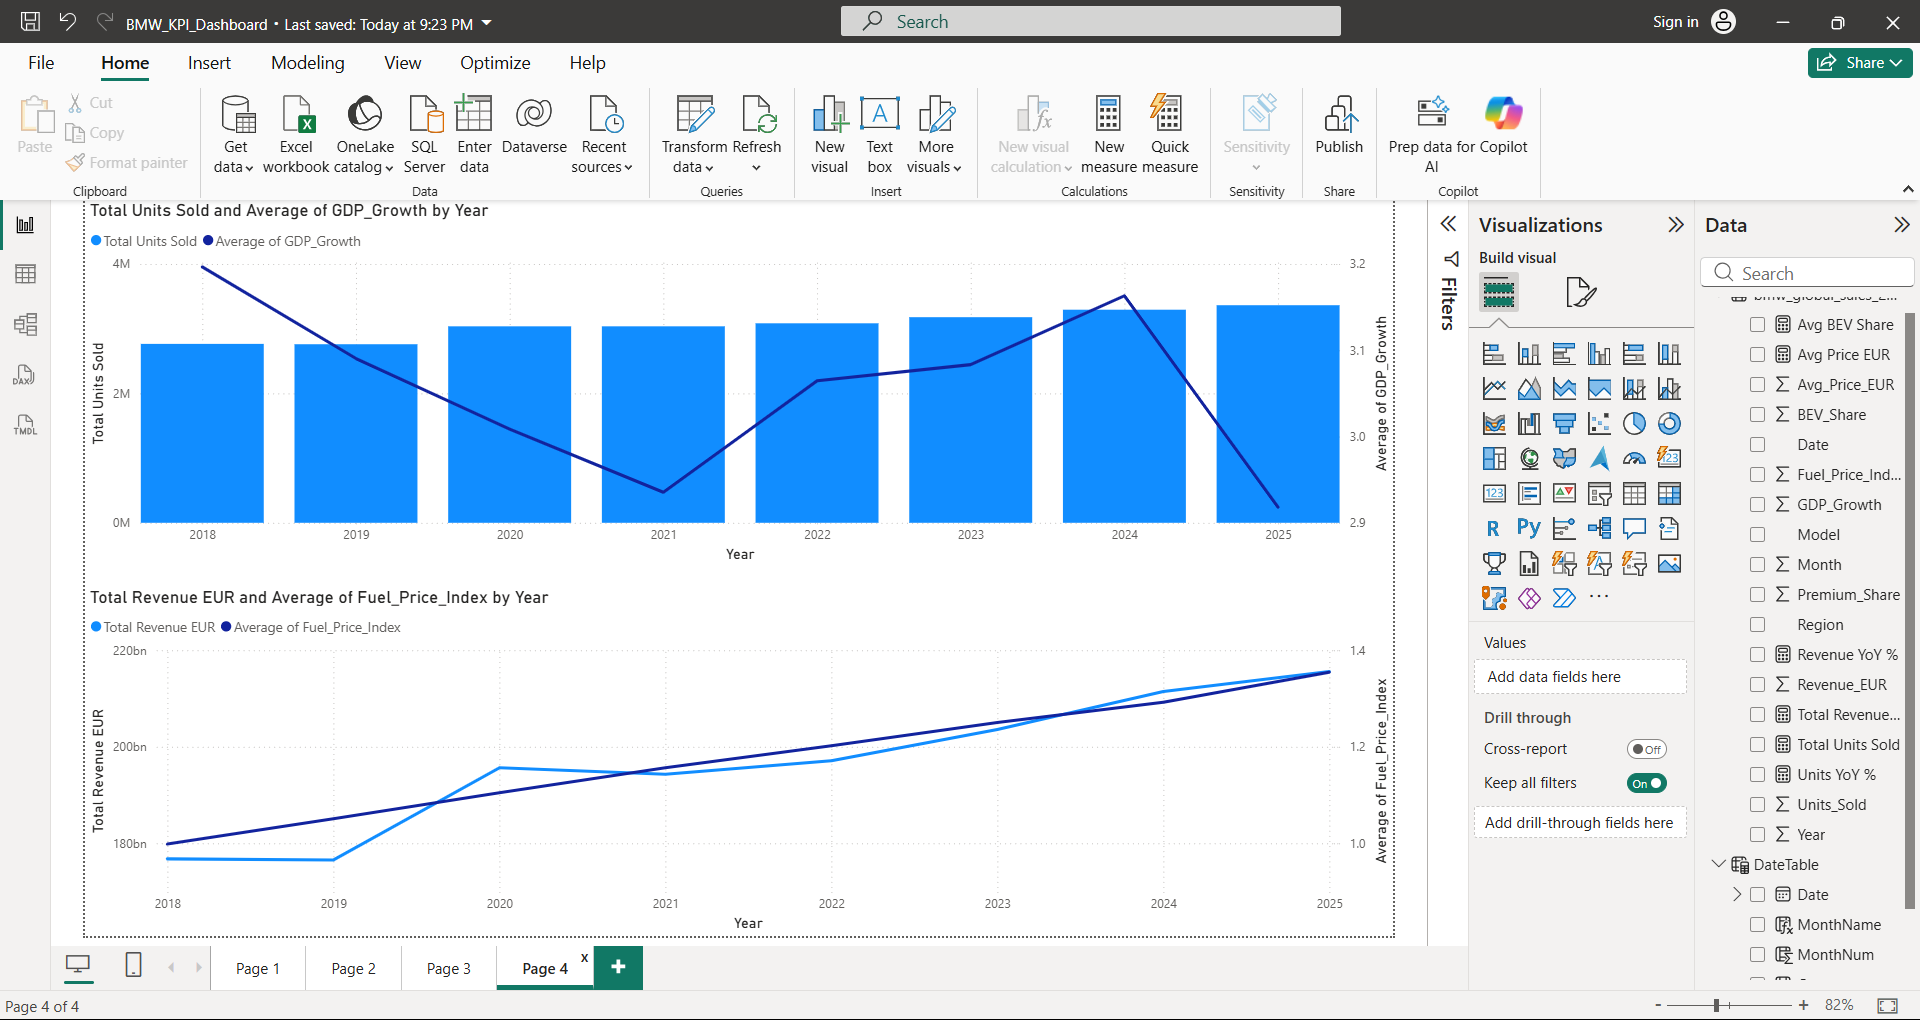

The dashboard page shown, as its layout file describes it:
{"tool":"powerbi","page":{"name":"Page 4","canvas":[1280,720],"ordinal":3},"visuals":[{"type":"lineStackedColumnComboChart","fields":{"Category":["DateTable.Year"],"Y2":["Avg(bmw_global_sales_2018_2025.GDP_Growth)"],"Y":["bmw_global_sales_2018_2025.Total Units Sold"]},"box":[0,0,1280.3,359.5],"z":0},{"type":"lineChart","fields":{"Category":["DateTable.Year"],"Y":["bmw_global_sales_2018_2025.Total Revenue EUR"],"Y2":["Avg(bmw_global_sales_2018_2025.Fuel_Price_Index)"]},"box":[0,377.9,1280.3,342.4],"z":1}]}

Visuals, with their boxes on the page's 1280x720 design canvas (x1, y1, x2, y2). These are canvas units, not pixel positions in the 1920x1020 screenshot, which may show the page scaled, cropped or inside an application window:
lineStackedColumnComboChart - DateTable.Year x Avg(bmw_global_sales_2018_2025.GDP_Growth): (0, 0, 1280, 360)
lineChart - DateTable.Year x bmw_global_sales_2018_2025.Total Revenue EUR: (0, 378, 1280, 720)
